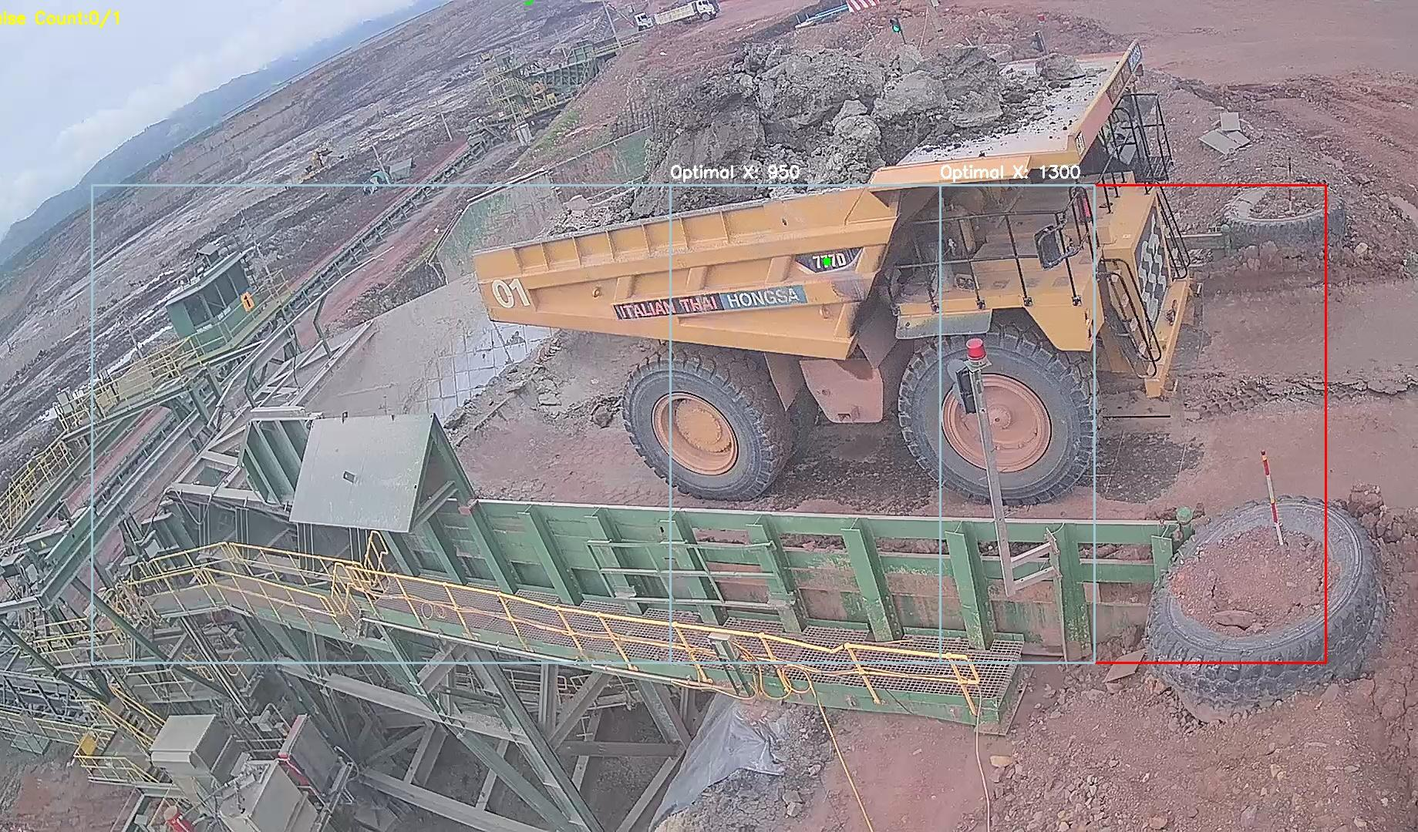company: (610, 285, 811, 321)
full_load: (660, 36, 889, 210)
mining_truck: (462, 21, 1213, 494)
tail_number: (485, 271, 540, 320)
truck_size: (791, 242, 867, 276)
